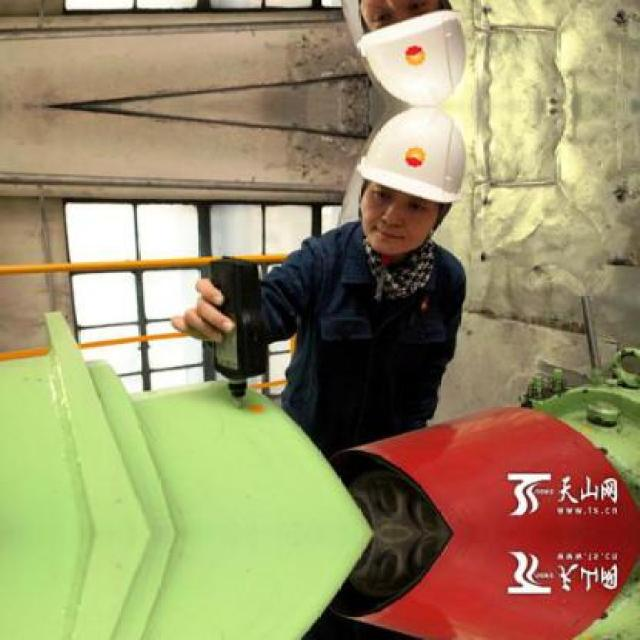helmet: (343, 106, 472, 262), (343, 0, 474, 106)
